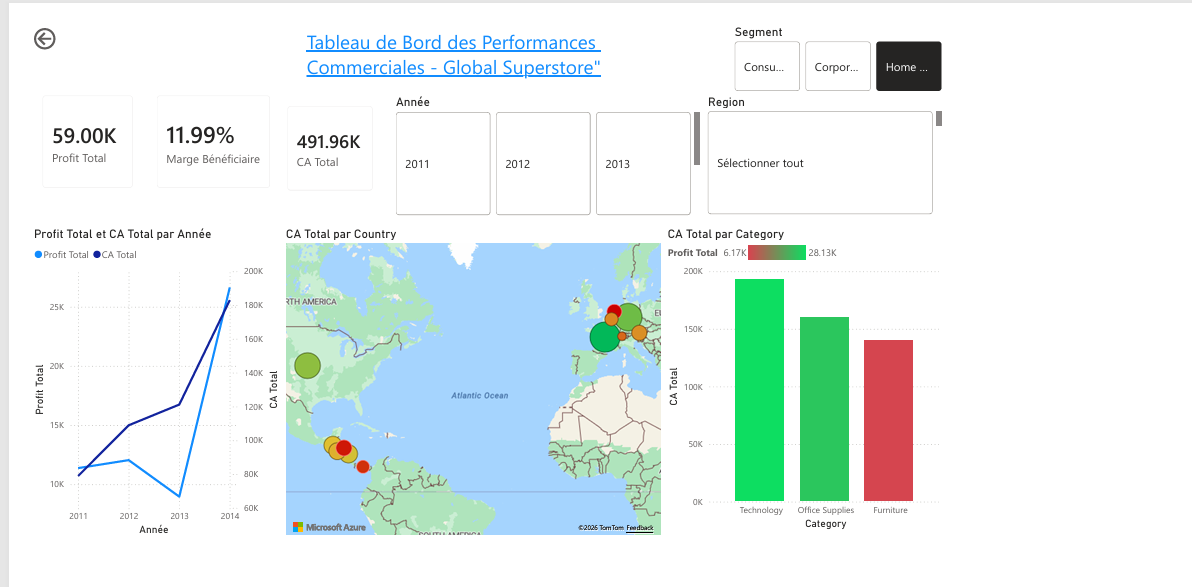

The dashboard page shown, as its layout file describes it:
{"tool":"powerbi","page":{"name":"Page 1","canvas":[1280,720],"ordinal":0},"visuals":[{"type":"actionButton","box":[0,0,100,40],"z":0},{"type":"cardVisual","fields":{"Data":["_Mesures.Profit Total"]},"box":[0,82.5,160,163.8],"z":1000},{"type":"cardVisual","fields":{"Data":["_Mesures.CA Total"]},"box":[342.5,97.5,153.8,152.5],"z":2000},{"type":"cardVisual","fields":{"Data":["_Mesures.Marge Bénéficiaire"]},"box":[160,82.5,192.5,163.8],"z":3000},{"type":"lineChart","fields":{"Category":["Global_Superstore2.Order Date.Variation.Hiérarchie de dates.Année","Global_Superstore2.Order Date.Variation.Hiérarchie de dates.Trimestre","Global_Superstore2.Order Date.Variation.Hiérarchie de dates.Mois","Global_Superstore2.Order Date.Variation.Hiérarchie de dates.Jour"],"Y":["_Mesures.Profit Total"],"Y2":["_Mesures.CA Total"]},"box":[0,282.5,352.5,437.5],"z":4000},{"type":"azureMap","fields":{"Category":["Global_Superstore2.Country"],"Size":["_Mesures.CA Total"]},"box":[352.5,282.5,533.8,437.5],"z":5000},{"type":"clusteredColumnChart","fields":{"Category":["Global_Superstore2.Category"],"Y":["_Mesures.CA Total"]},"box":[886.2,282.5,393.8,428.8],"z":6000},{"type":"advancedSlicerVisual","fields":{"Values":["Global_Superstore2.Region"]},"box":[942.5,97.5,337.5,173.8],"z":7000},{"type":"advancedSlicerVisual","fields":{"Values":["Global_Superstore2.Order Date.Variation.Hiérarchie de dates.Année"]},"box":[506.2,98.8,436.2,173.8],"z":8000},{"type":"textbox","box":[381.2,0,543.8,82.5],"z":9000},{"type":"advancedSlicerVisual","fields":{"Values":["Global_Superstore2.Segment"]},"box":[980,0,300,98.8],"z":10000}]}

Visuals, with their boxes on the page's 1280x720 design canvas (x1, y1, x2, y2). These are canvas units, not pixel positions in the 1192x587 screenshot, which may show the page scaled, cropped or inside an application window:
actionButton: (0,0,100,40)
cardVisual - _Mesures.Profit Total: (0,82,160,246)
cardVisual - _Mesures.CA Total: (342,98,496,250)
cardVisual - _Mesures.Marge Bénéficiaire: (160,82,352,246)
lineChart - Global_Superstore2.Order Date.Variation.Hiérarchie de dates.Année x Global_Superstore2.Order Date.Variation.Hiérarchie de dates.Trimestre: (0,282,352,720)
azureMap - Global_Superstore2.Country x _Mesures.CA Total: (352,282,886,720)
clusteredColumnChart - Global_Superstore2.Category x _Mesures.CA Total: (886,282,1280,711)
advancedSlicerVisual - Global_Superstore2.Region: (942,98,1280,271)
advancedSlicerVisual - Global_Superstore2.Order Date.Variation.Hiérarchie de dates.Année: (506,99,942,273)
textbox: (381,0,925,82)
advancedSlicerVisual - Global_Superstore2.Segment: (980,0,1280,99)
